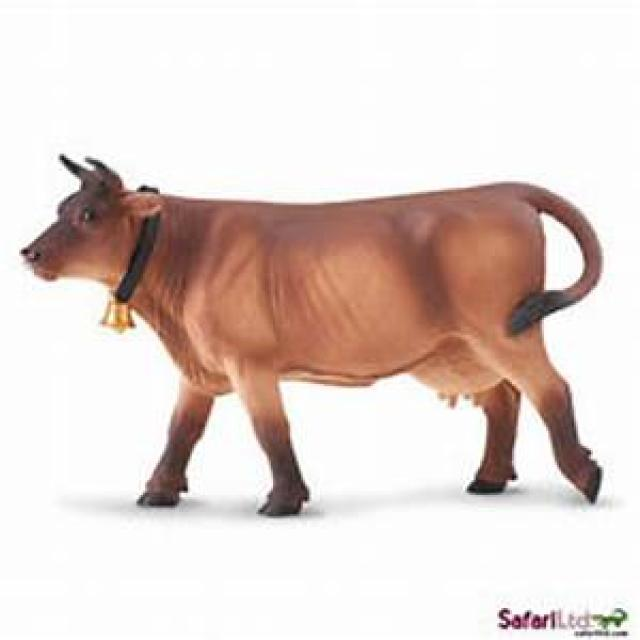animal: (23, 134, 617, 536)
